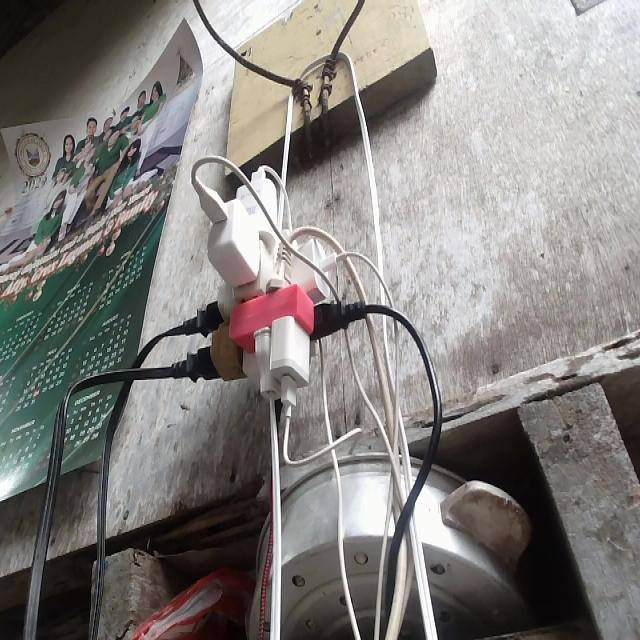-: (169, 155, 373, 420)
